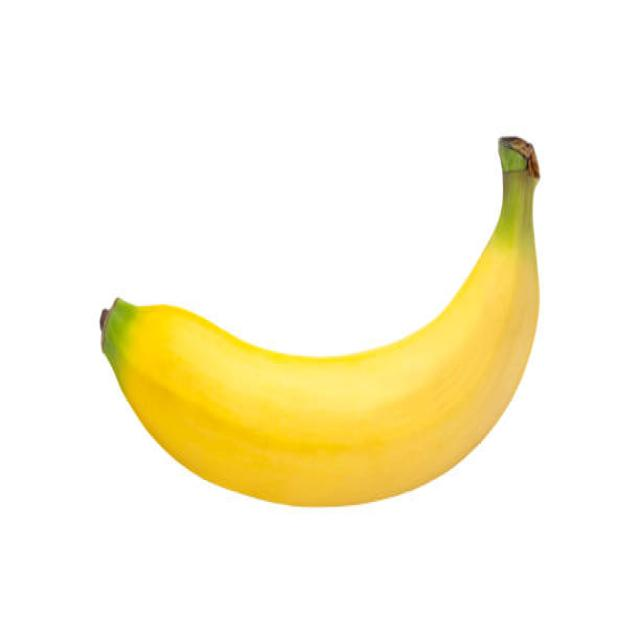Ripe: (98, 141, 545, 514)
